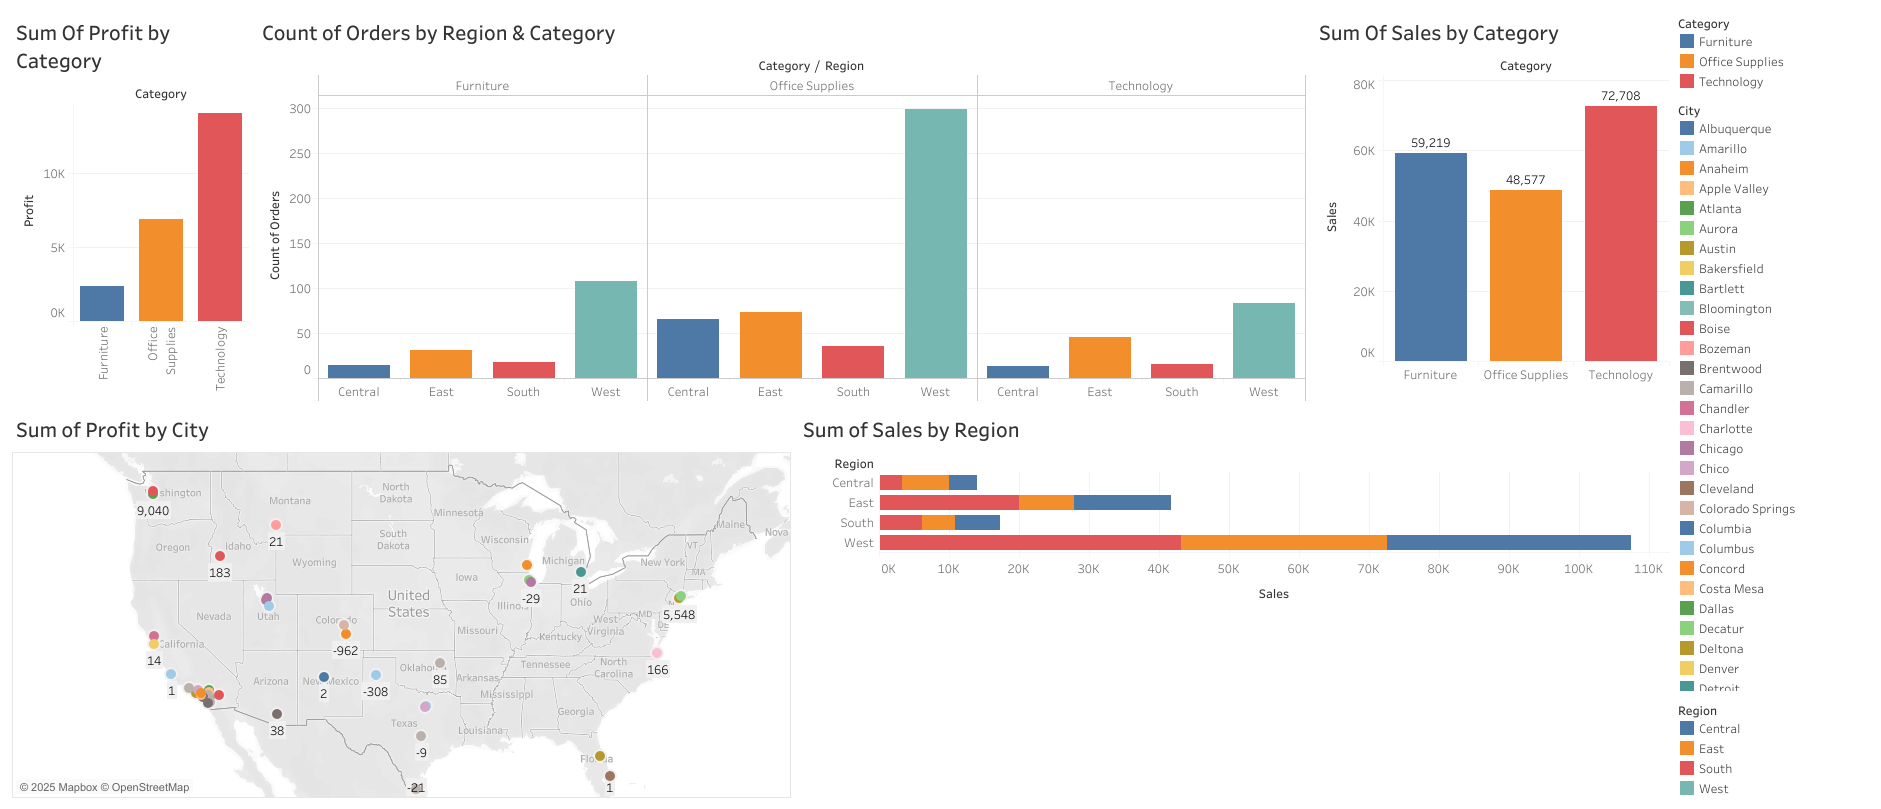

The dashboard page shown, as its layout file describes it:
{"tool":"tableau","page":{"name":"Dashboard 1","canvas":[1000,1000],"units":"permille","ordinal":0},"visuals":[{"type":"worksheet","title":"Sum Of Profit by Category","mark":"Automatic","rows":["Profit"],"cols":["Category"],"box":[4.7,9.3,128.7,490.7]},{"type":"worksheet","title":"Count of Orders by Region & Category","mark":"Automatic","rows":["Orders_EBD265F6AB2444FA89180B8B7819F8A1"],"cols":["Category","Region"],"box":[133.4,9.3,554.7,490.7]},{"type":"worksheet","title":"Sum Of Sales by Category","mark":"Automatic","rows":["Sales"],"cols":["Category"],"box":[688.1,9.3,189.6,490.7]},{"type":"legend","title":"Sum Of Profit by Category","param":"[federated.0uu90mr0kjesap16w3kuo104tfhk].[none:Category:nk]","box":[877.7,9.3,117.6,100.5]},{"type":"legend","title":"Sum of Profit by City","param":"[federated.0uu90mr0kjesap16w3kuo104tfhk].[none:City:nk]","box":[877.7,109.8,117.6,757]},{"type":"worksheet","title":"Sum of Profit by City","mark":"Automatic","box":[4.7,500,412.5,490.7]},{"type":"worksheet","title":"Sum of Sales by Region","mark":"Automatic","rows":["Region"],"cols":["Sales"],"box":[417.2,500,460.5,490.7]},{"type":"legend","title":"Count of Orders by Region & Category","param":"[federated.0uu90mr0kjesap16w3kuo104tfhk].[none:Region:nk]","box":[877.7,866.8,117.6,123.8]}]}

Visuals, with their boxes on the dashboard's canvas, which has no fixed pixel size, in thousandths of its width and height (x1, y1, x2, y2). These are canvas units, not pixel positions in the 1881x809 screenshot, which may show the page scaled, cropped or inside an application window:
"Sum Of Profit by Category" worksheet: <region>5, 9, 133, 500</region>
"Count of Orders by Region & Category" worksheet: <region>133, 9, 688, 500</region>
"Sum Of Sales by Category" worksheet: <region>688, 9, 878, 500</region>
"Sum Of Profit by Category" legend: <region>878, 9, 995, 110</region>
"Sum of Profit by City" legend: <region>878, 110, 995, 867</region>
"Sum of Profit by City" worksheet: <region>5, 500, 417, 991</region>
"Sum of Sales by Region" worksheet: <region>417, 500, 878, 991</region>
"Count of Orders by Region & Category" legend: <region>878, 867, 995, 991</region>
